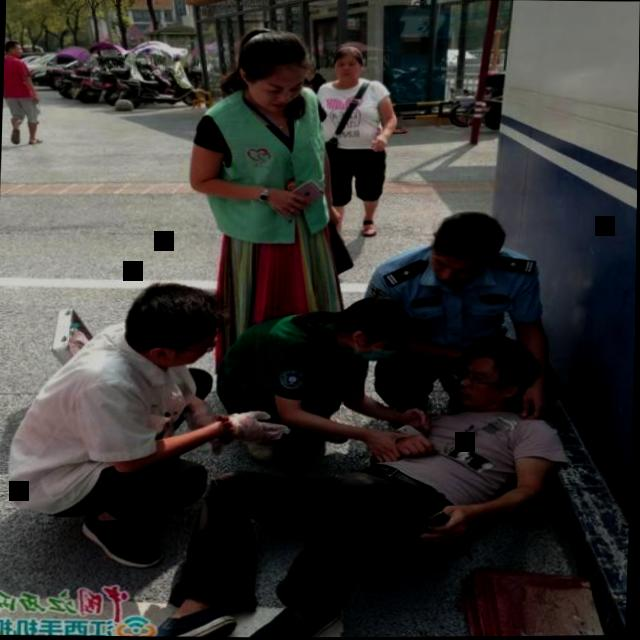Fall-Detected: (119, 324, 567, 639)
